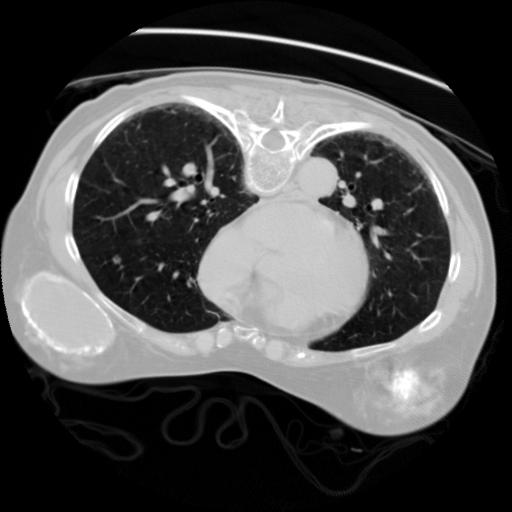nodule: (108, 252, 124, 268)
